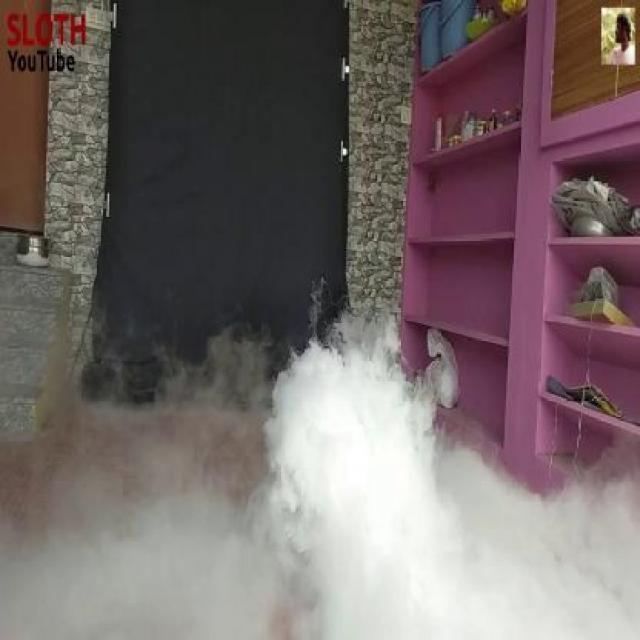smoke: (253, 303, 610, 640), (12, 355, 392, 640)
